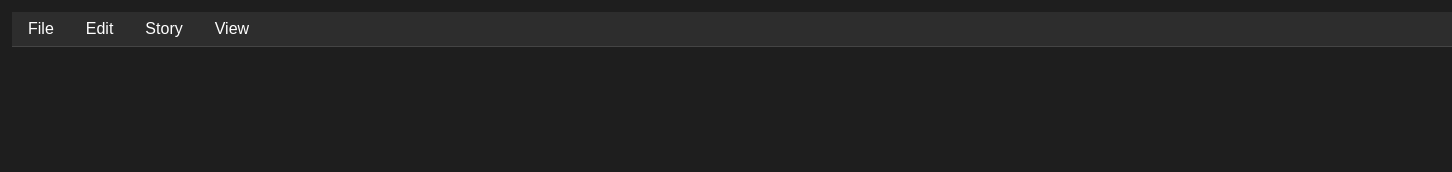
Test case: Feature: Menu Bar Component › Scenario: User interacts with View menu › Given the View menu is closed, When clicked, Then it should open and display view options
Click the button "View" at [232, 29], box [199,12,265,46]
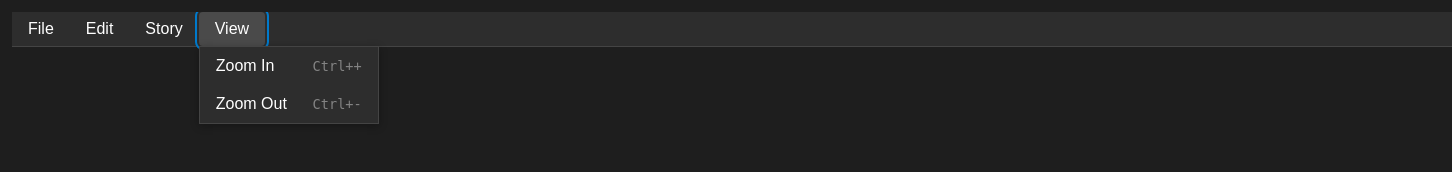
Result: the text "Zoom In" is shown at [216,57,274,75]
Result: the text "Zoom Out" is shown at [216,95,287,113]
